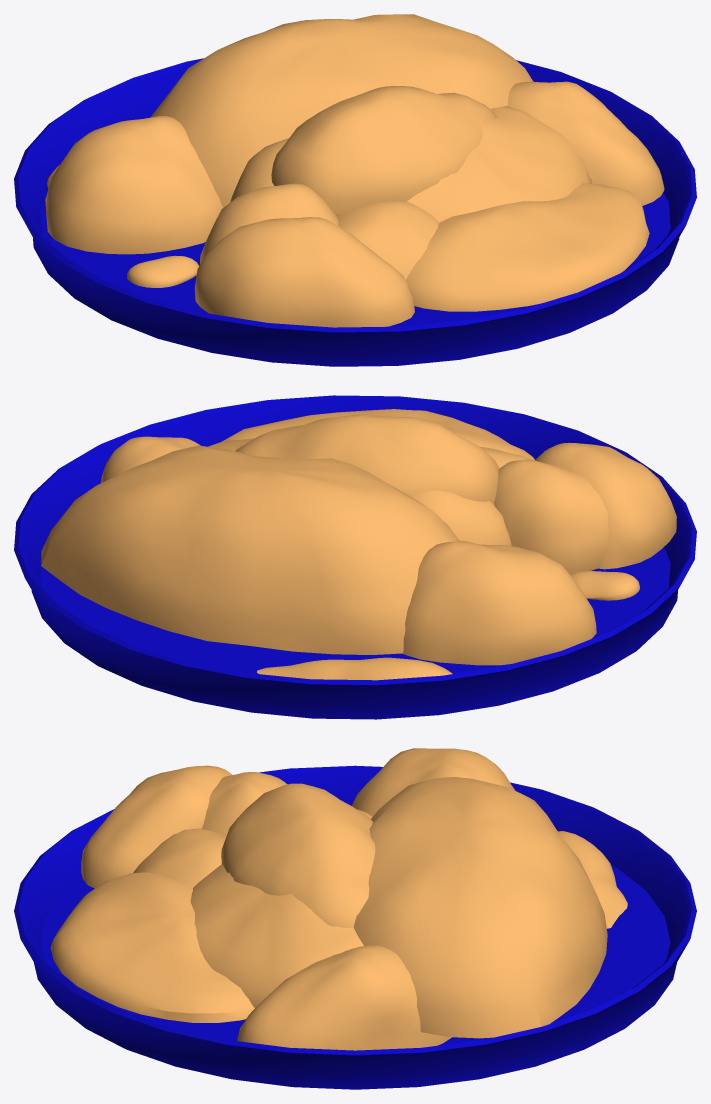
File: Food Tray.fbx
3 renders of one model, top to bottom at view 1: azimuth 30°, elevation 25°; view 2: azimuth 150°, elevation 25°; view 3: azimuth 270°, elevation 25°, orthographic.
Parts seen in each view (by area): view 1: Sphere.002; view 2: Sphere.002; view 3: Sphere.002.
Part boxes in pixels (x1,y1,x2,y2): Sphere.002: (14,14,696,366); Sphere.002: (14,395,696,719); Sphere.002: (14,748,696,1089).
Bounding box in the file's own units: 830 × 203 × 830.
